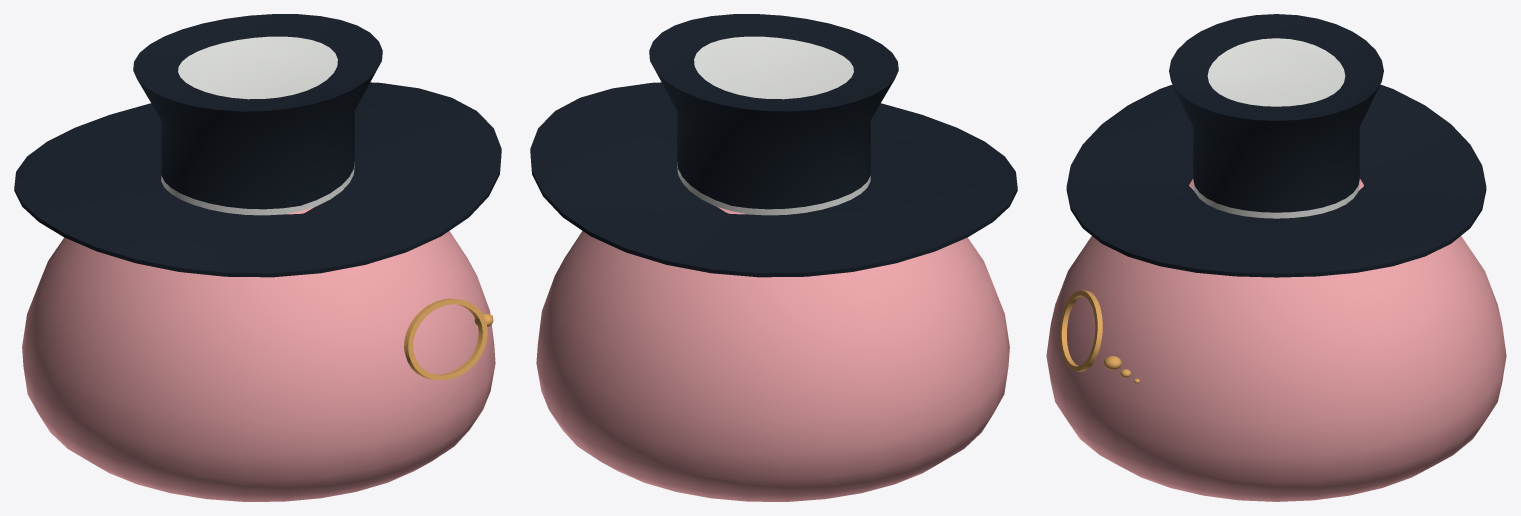
Rendered from SlimeCartola.fbx.
3 renders of one model, left to right at view 1: azimuth 30°, elevation 25°; view 2: azimuth 150°, elevation 25°; view 3: azimuth 270°, elevation 25°, orthographic. The views are drawn at different scales.
Parts seen in each view (by area): view 1: Sphere.002; view 2: Sphere.002; view 3: Sphere.002.
Boxes of the visible parts, x1,y1,x2,y2 form: Sphere.002: (14, 14, 501, 501); Sphere.002: (530, 14, 1017, 501); Sphere.002: (1046, 14, 1506, 501).
Bounding box in the file's own units: 87.07 × 72.59 × 81.18.
